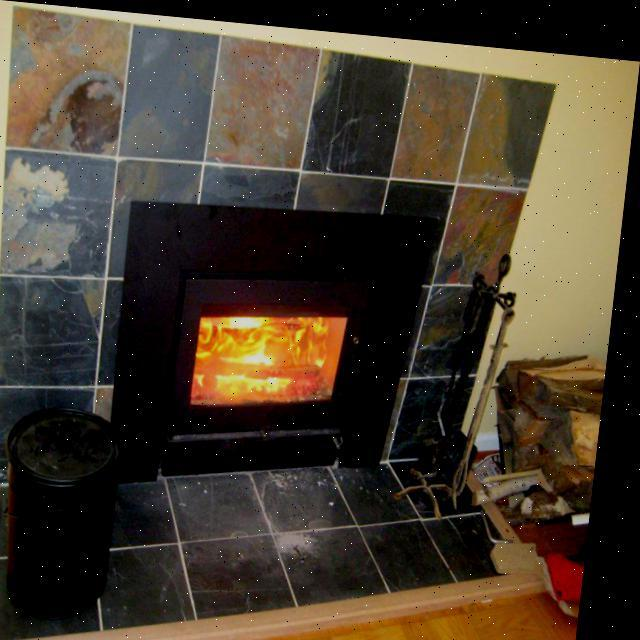Fire: (203, 306, 339, 389)
